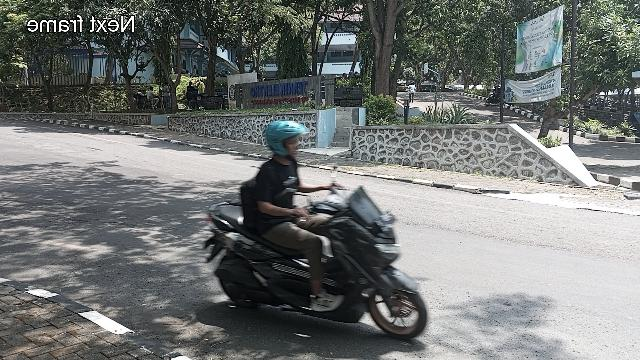helm: (267, 121, 309, 157)
motor: (204, 191, 427, 342)
